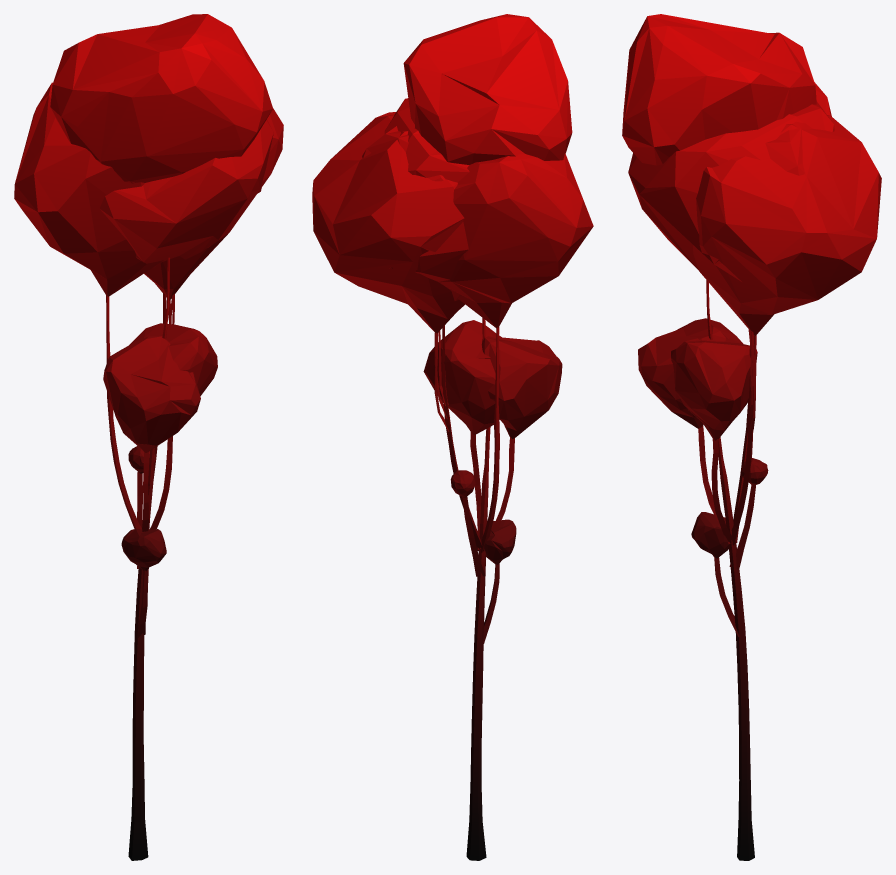
Rendered from TreeBirch02.fbx.
3 renders of one model, left to right at view 1: azimuth 30°, elevation 25°; view 2: azimuth 150°, elevation 25°; view 3: azimuth 270°, elevation 25°, orthographic. The views are drawn at different scales.
Visible parts, largest first — view 1: TreeBirch02_LOD0; view 2: TreeBirch02_LOD0; view 3: TreeBirch02_LOD0.
Part boxes in pixels (bbox=[...]): TreeBirch02_LOD0: bbox=[14, 14, 283, 860]; TreeBirch02_LOD0: bbox=[312, 14, 593, 860]; TreeBirch02_LOD0: bbox=[622, 14, 881, 860].
Size of what is drawn, in the model's own units: 319 by 989 by 277.
